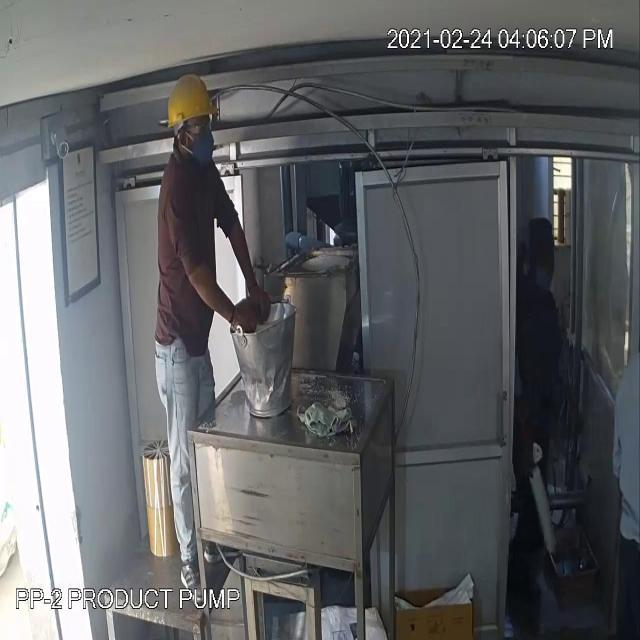helmet: (161, 72, 219, 135)
